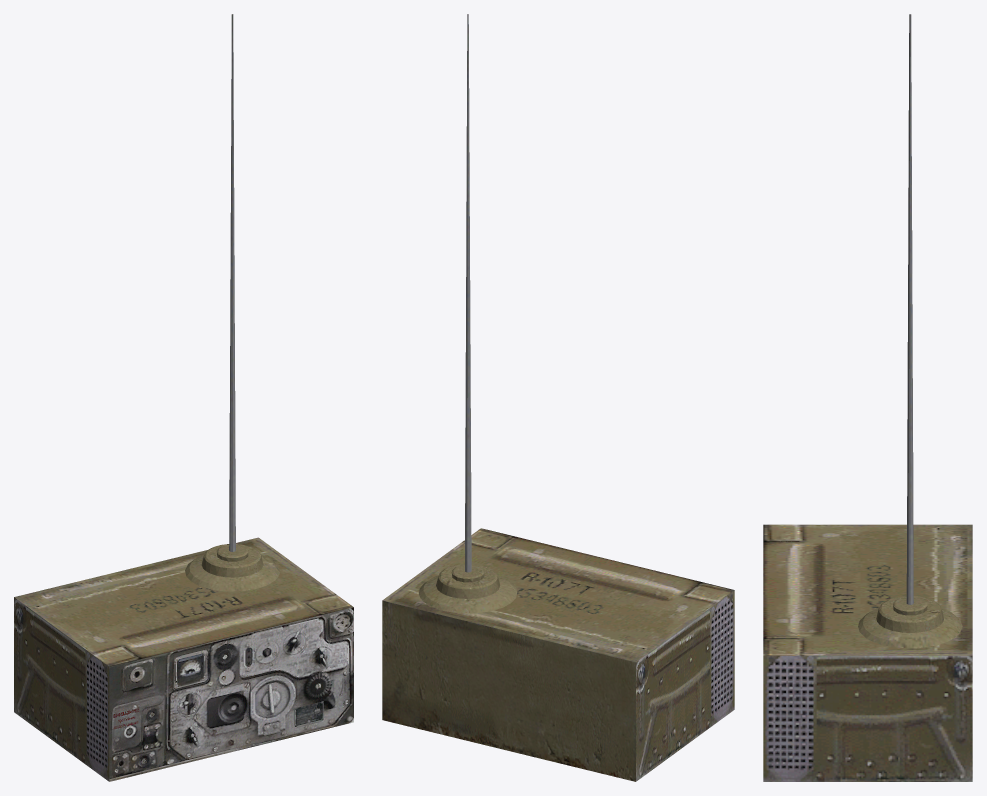
Rendered from radio.obj.
3 renders of one model, left to right at view 1: azimuth 30°, elevation 25°; view 2: azimuth 150°, elevation 25°; view 3: azimuth 270°, elevation 25°, orthographic. The views are drawn at different scales.
Visible parts, largest first — view 1: Cube; view 2: Cube; view 3: Cube.
Part boxes in pixels (left/top/right/bottom): Cube: left=14, top=14, right=353, bottom=781; Cube: left=382, top=14, right=734, bottom=781; Cube: left=763, top=14, right=972, bottom=781.
Bounding box in the file's own units: 4 × 10.51 × 2.7.
